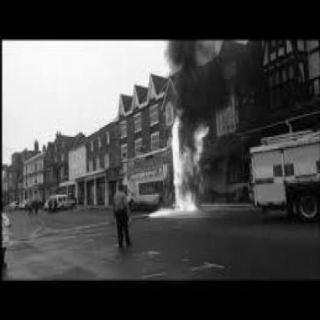Fire: (152, 109, 210, 217)
Smoke: (169, 40, 235, 104)
